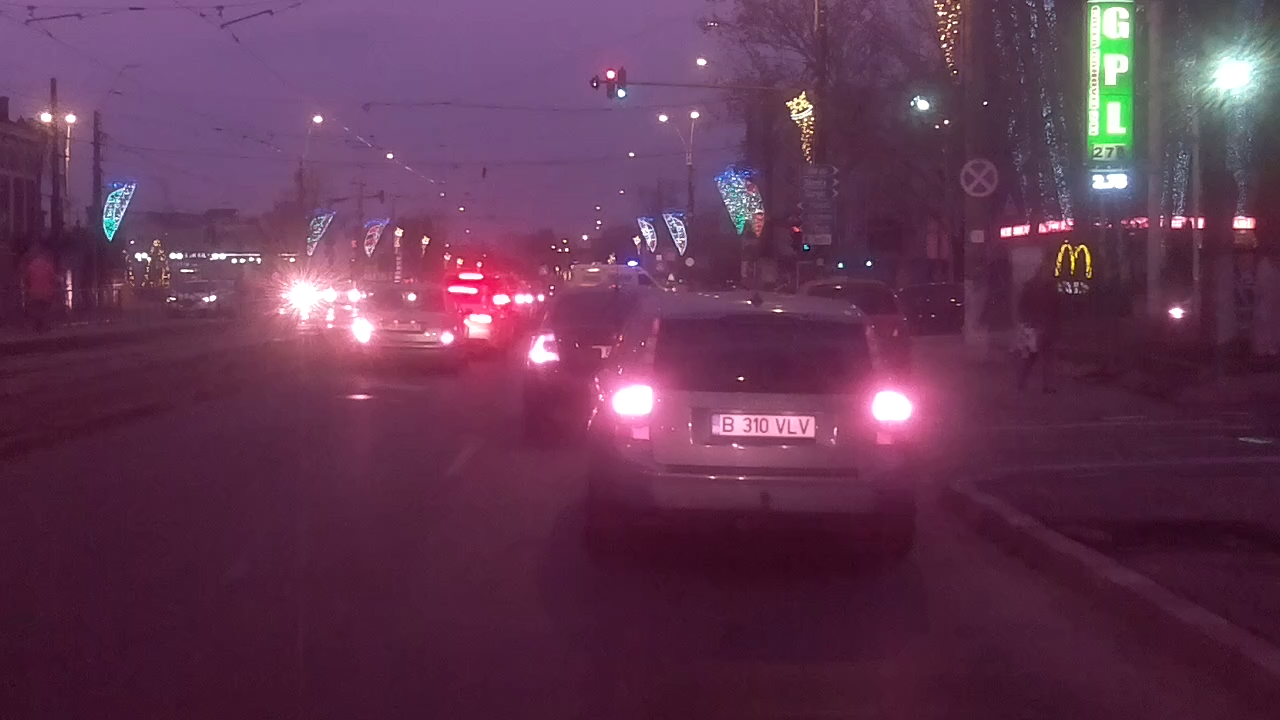license-plate: (706, 410, 820, 441)
